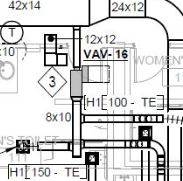VAV: (69, 65, 94, 104)
